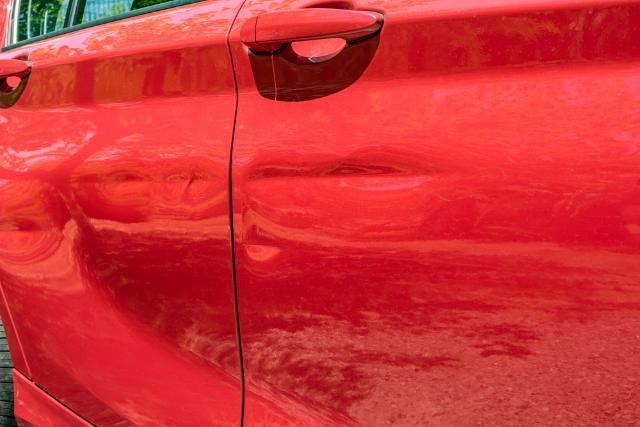dent: (0, 160, 230, 285), (239, 142, 428, 261)
